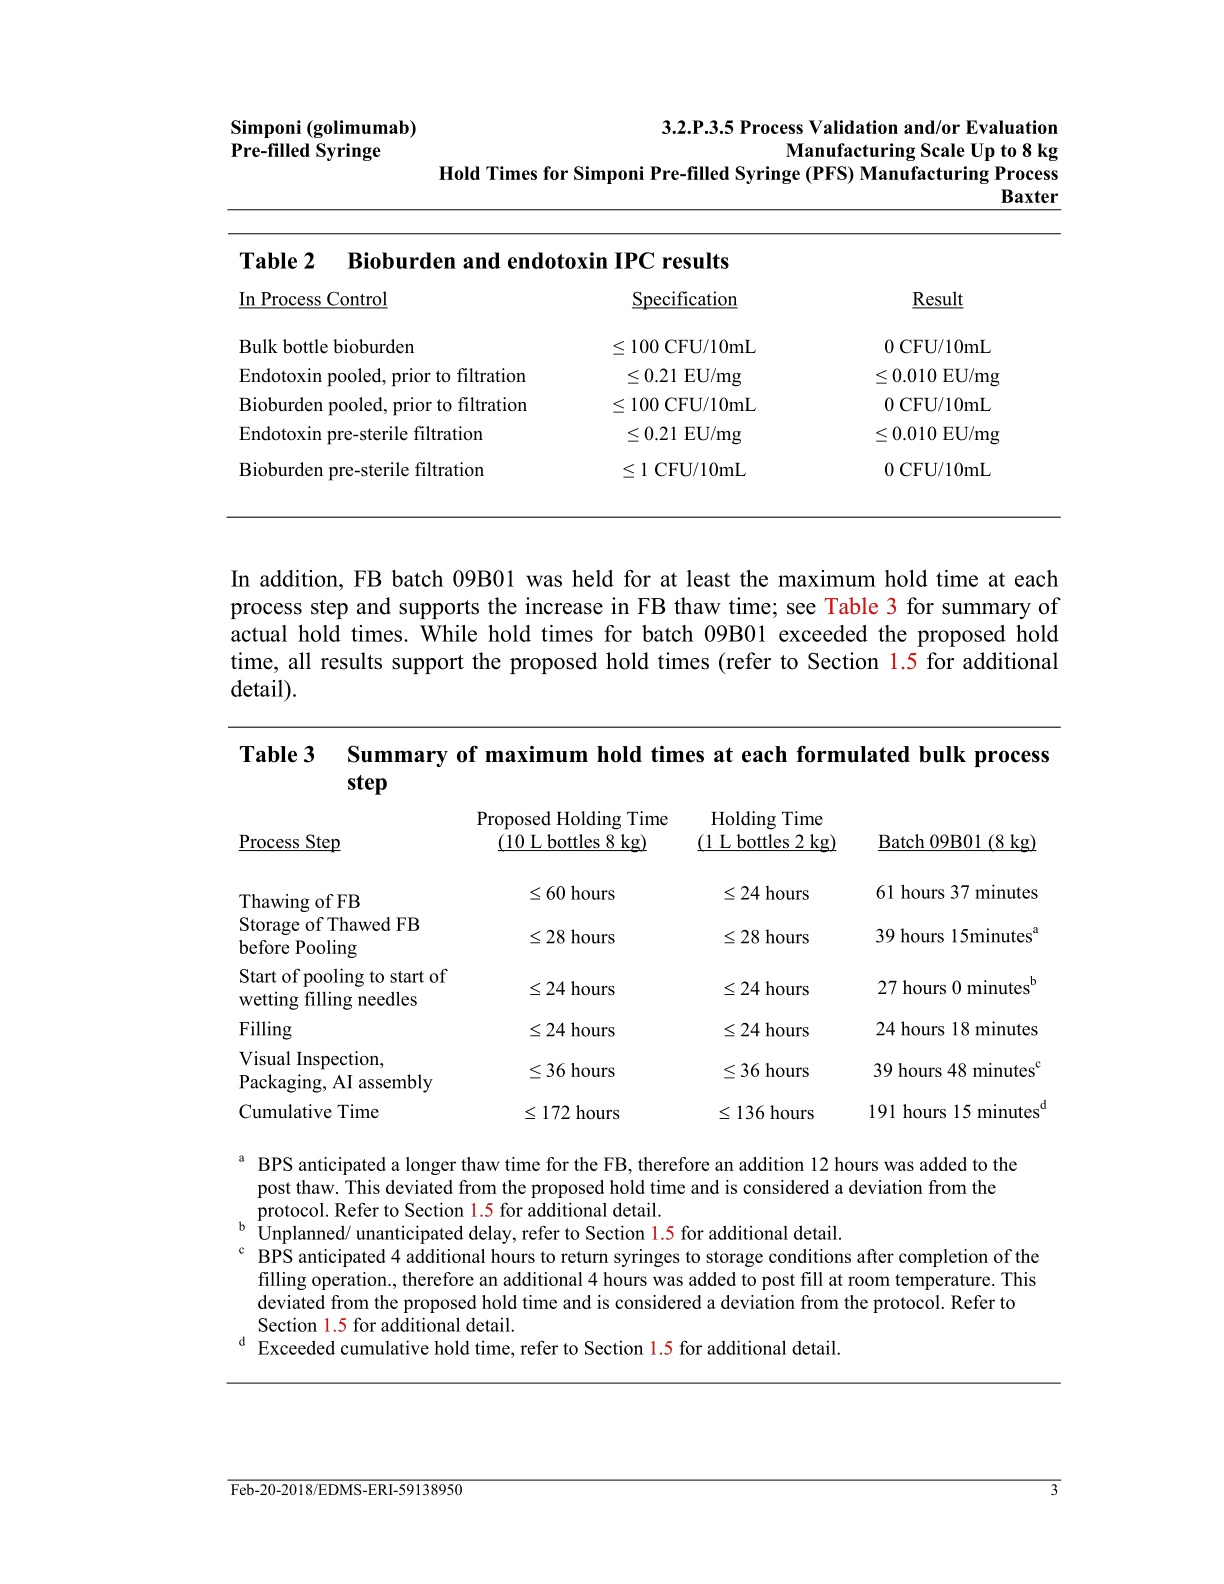nolines: (237, 806, 1047, 1124), (235, 285, 1003, 481)
